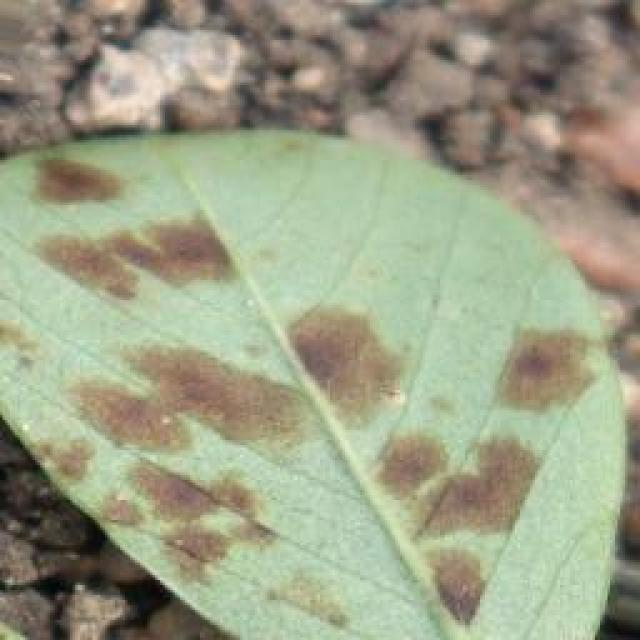Whitefly: (5, 133, 620, 640)
